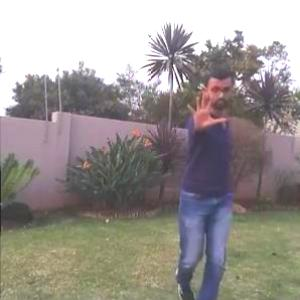follow_hand: (184, 89, 230, 133)
